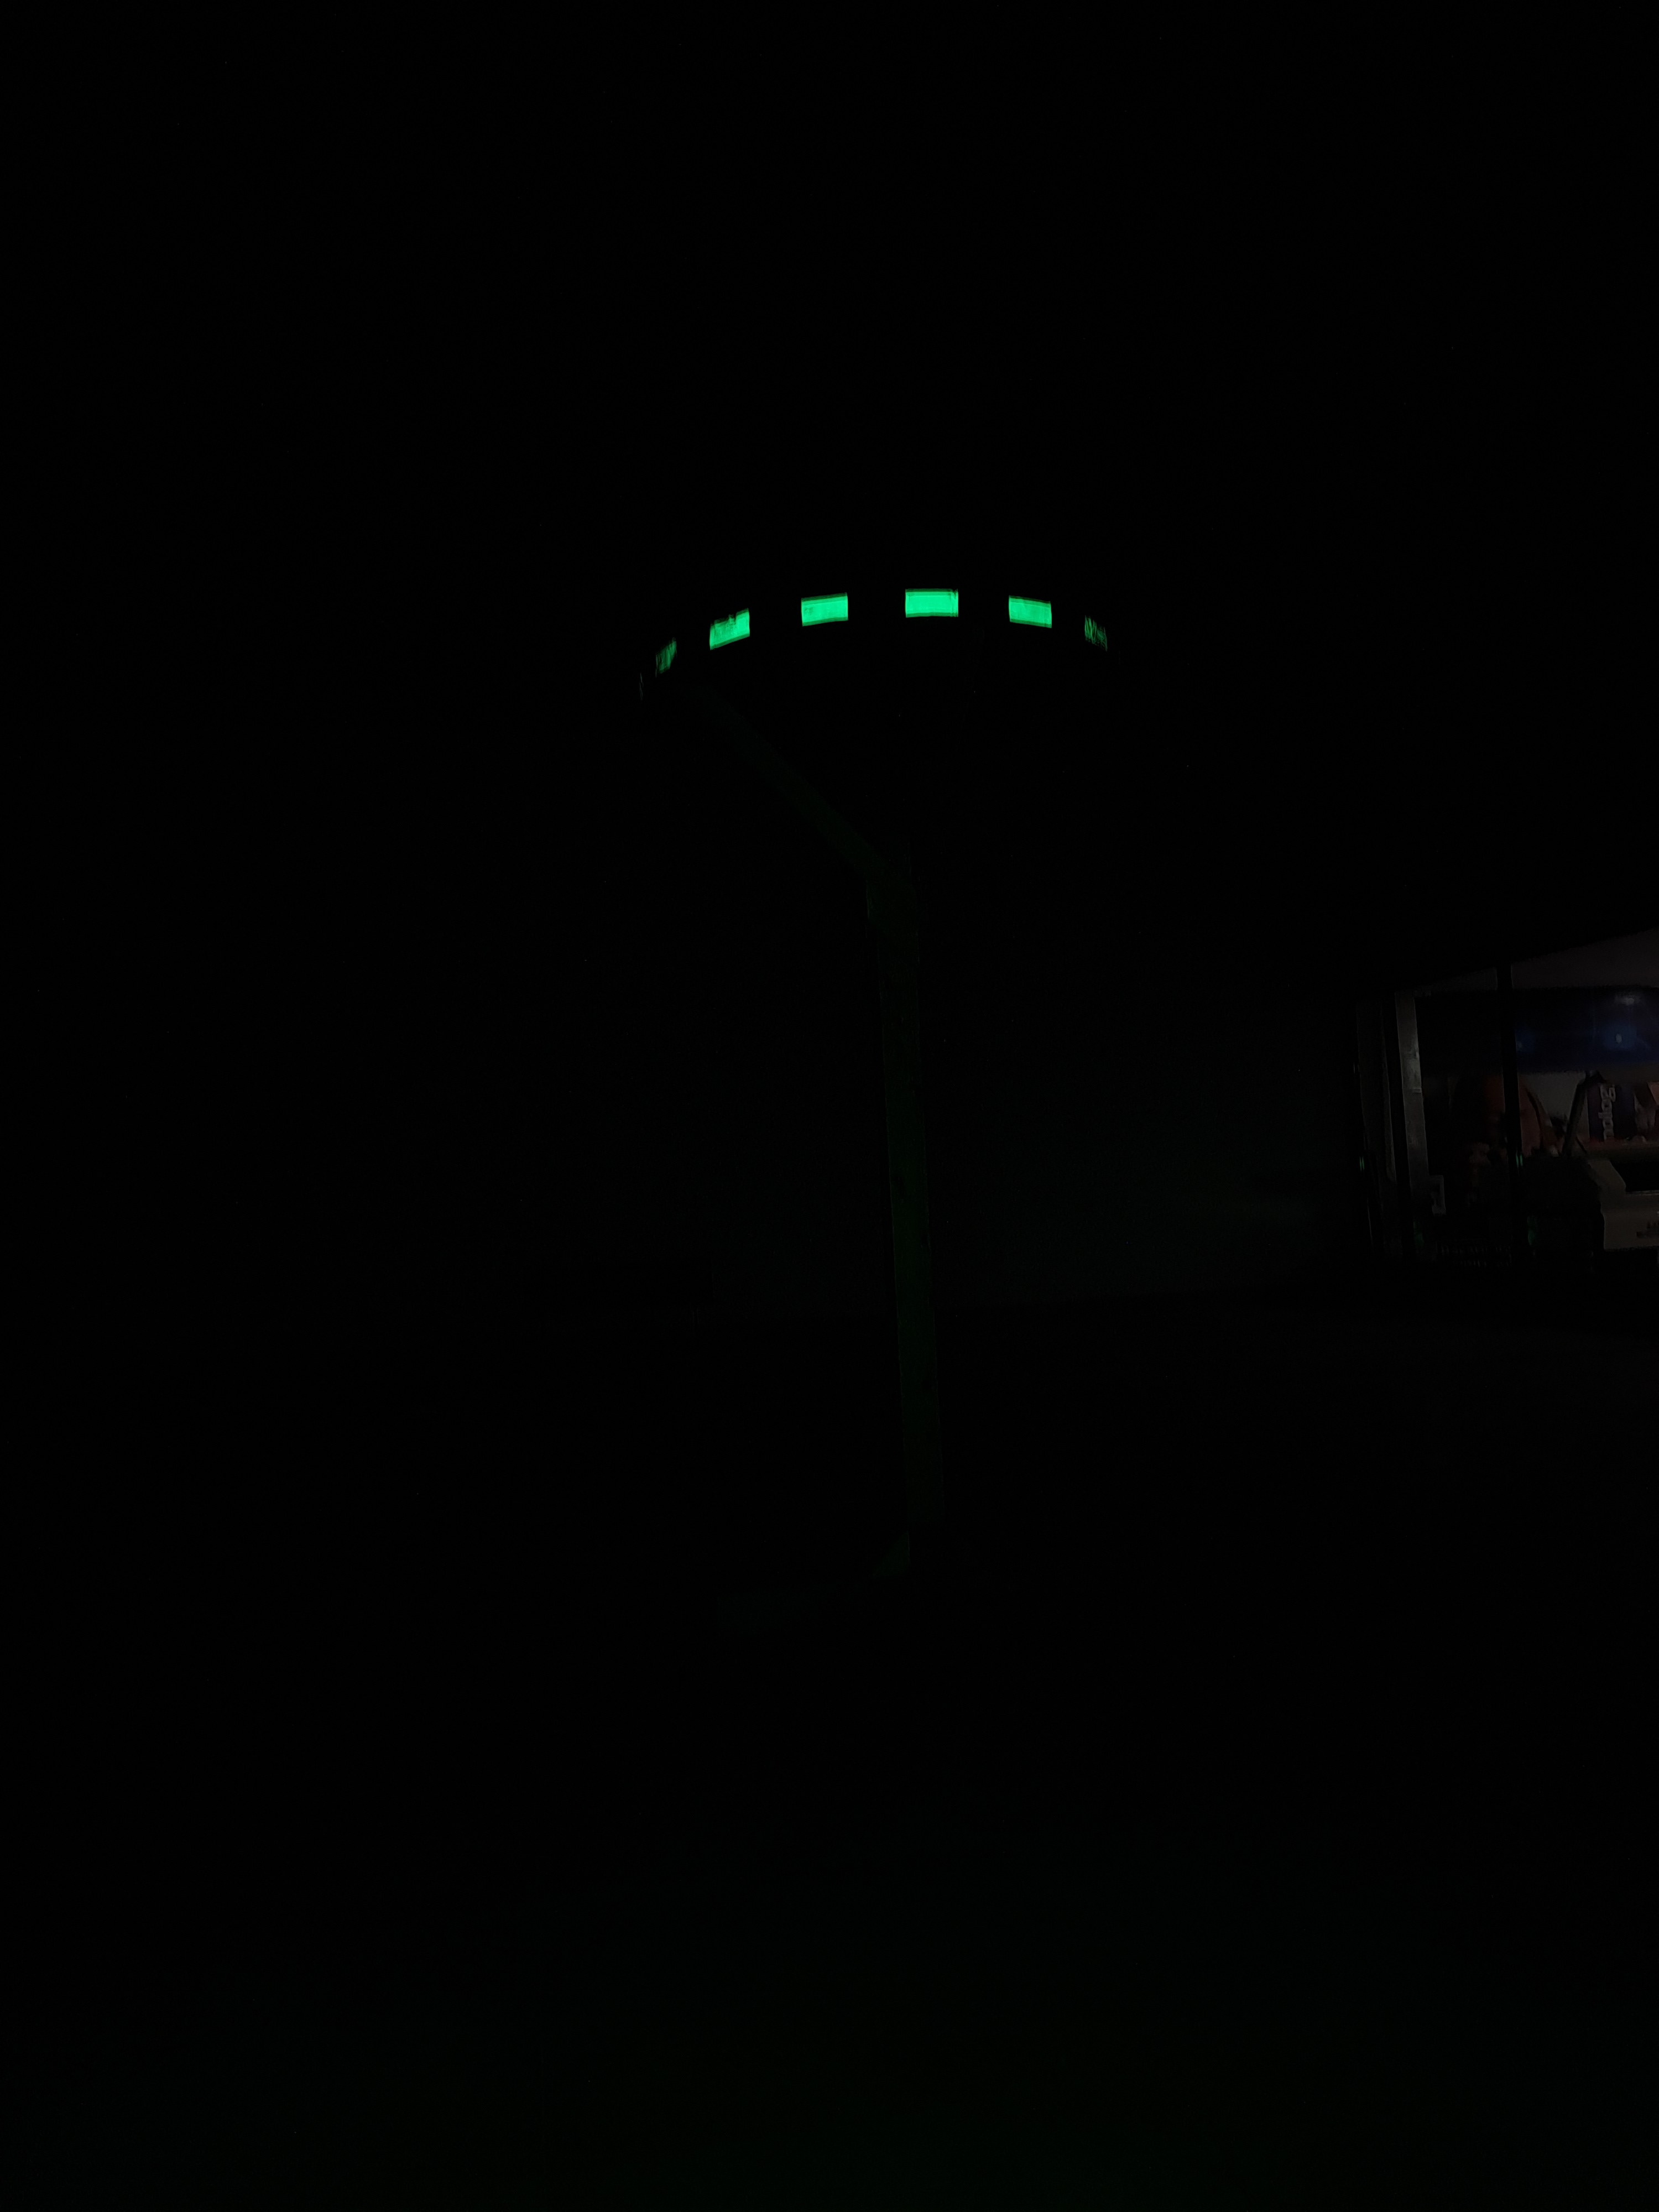hoop: (608, 556, 1136, 700)
